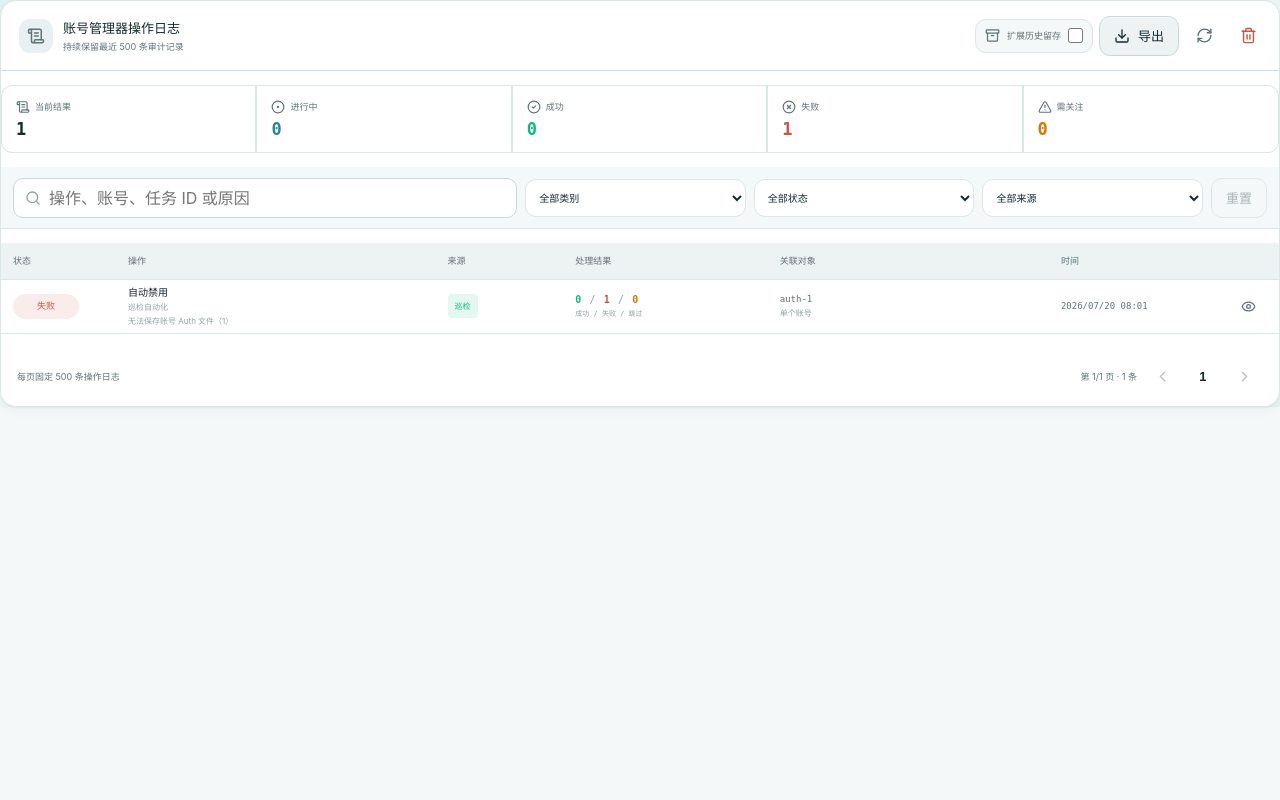
Test: OperationLogWorkspace › shows the concrete write failure basis for failed inspection automation
The width and height of the screenshot is (1280, 800).
Expected: the text "无法保存账号 Auth 文件（1）" is shown, top-left (128, 316), bottom-right (233, 326)
Click the button named "查看操作详情" at coordinates (1248, 306), box top-left (1229, 287), bottom-right (1267, 325)
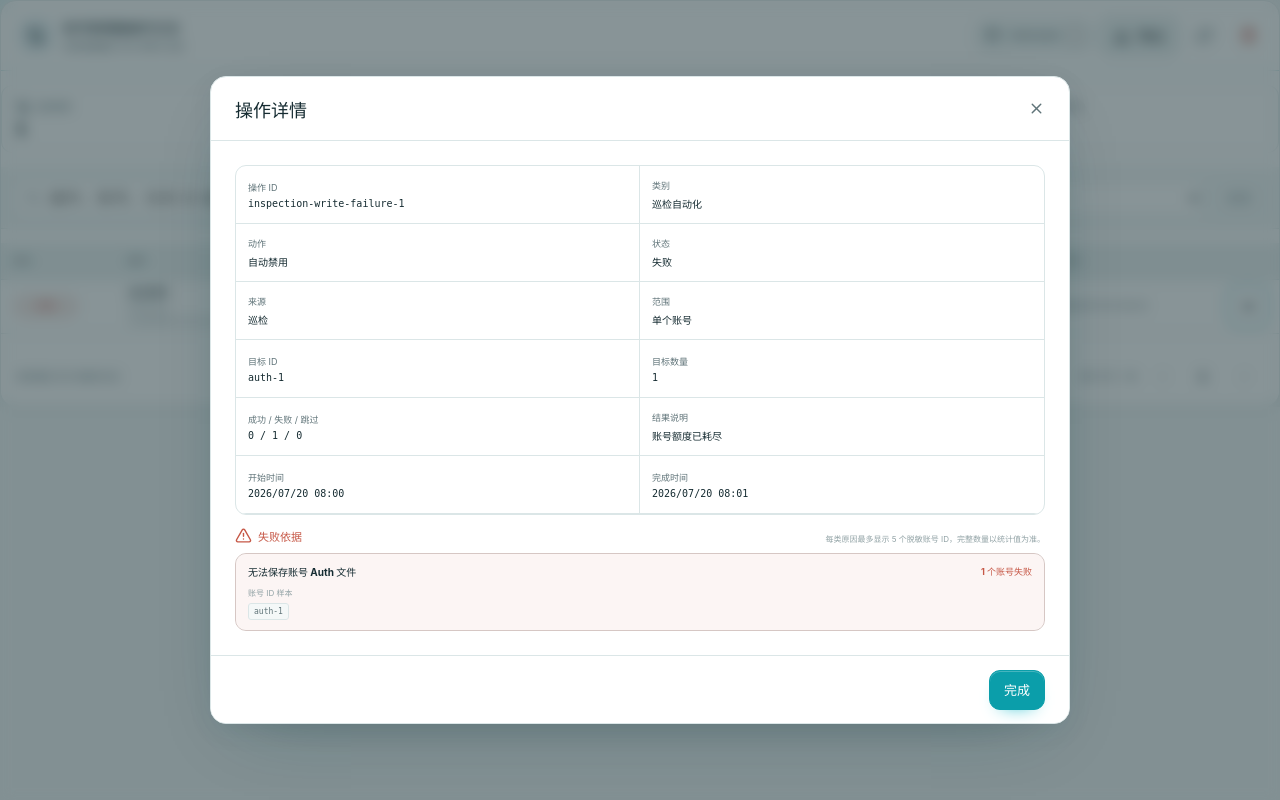
Expected: the text "无法保存账号 Auth 文件" is shown, top-left (248, 564), bottom-right (356, 579)
Expected: the text "auth-1" below "账号 ID 样本" is shown, top-left (254, 607), bottom-right (283, 616)
